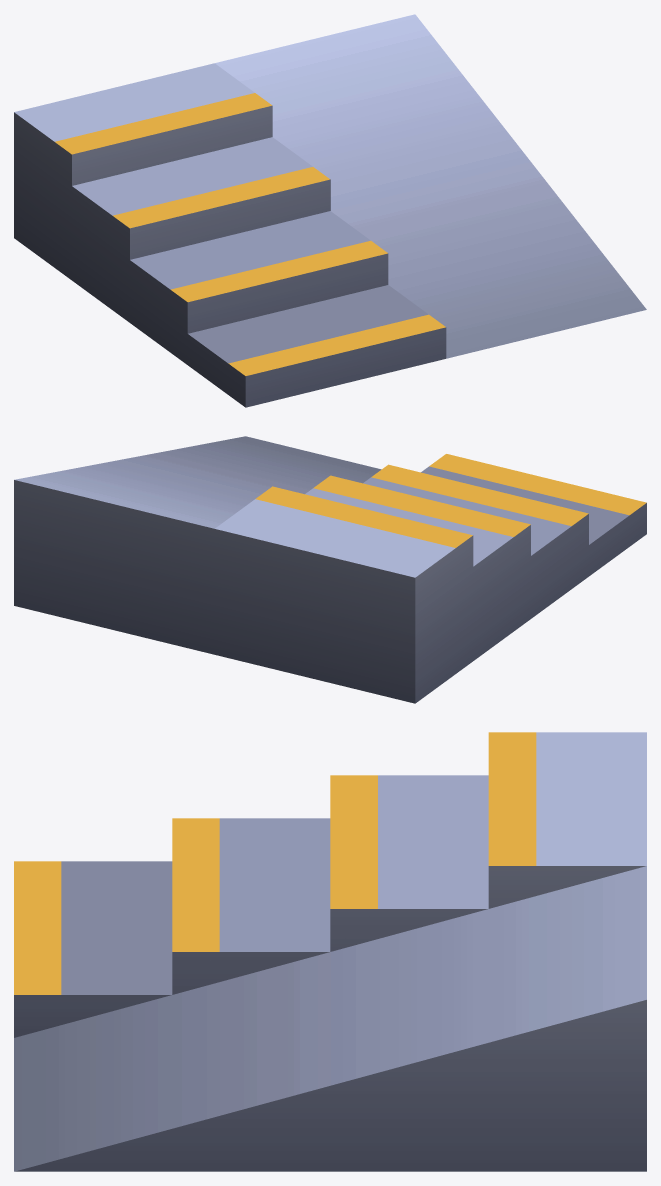
Rendered from stairs-ramp.glb.
The picture shows the model from 3 angles, top to bottom: view 1: azimuth 30°, elevation 25°; view 2: azimuth 150°, elevation 25°; view 3: azimuth 270°, elevation 25°; orthographic projection. The views are drawn at different scales.
Visible parts, largest first — view 1: stairs-ramp; view 2: stairs-ramp; view 3: stairs-ramp.
Boxes of the visible parts, x1=… form: stairs-ramp: x1=14, y1=14, x2=646, y2=407; stairs-ramp: x1=14, y1=436, x2=646, y2=703; stairs-ramp: x1=14, y1=732, x2=646, y2=1171.
Size of the model in its own units: 1 by 0.3 by 1.
Materials: 1 (1 with a texture image).
